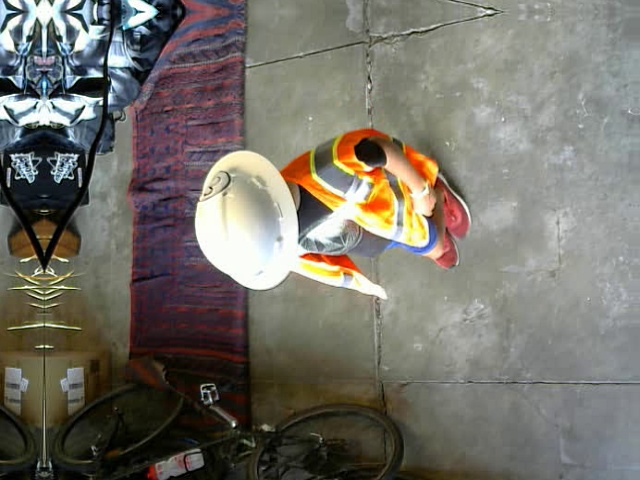three: (196, 168, 231, 201)
